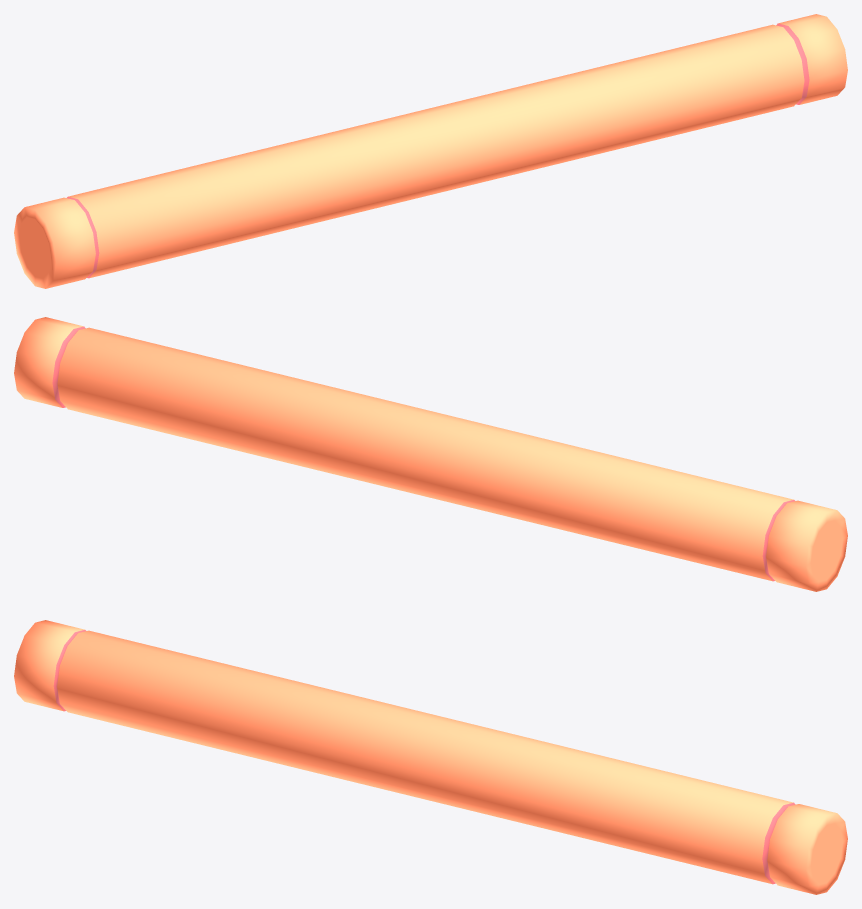
File: Oklava.fbx
3 renders of one model, top to bottom at view 1: azimuth 30°, elevation 25°; view 2: azimuth 150°, elevation 25°; view 3: azimuth 330°, elevation 25°, orthographic.
Visible parts, largest first — view 1: Oklava; view 2: Oklava; view 3: Oklava.
Part boxes in pixels (x1,y1,x2,y2): Oklava: (14, 14, 847, 288); Oklava: (14, 317, 847, 591); Oklava: (14, 620, 847, 894).
Size of the model in its own units: 2165 by 200 by 200.
